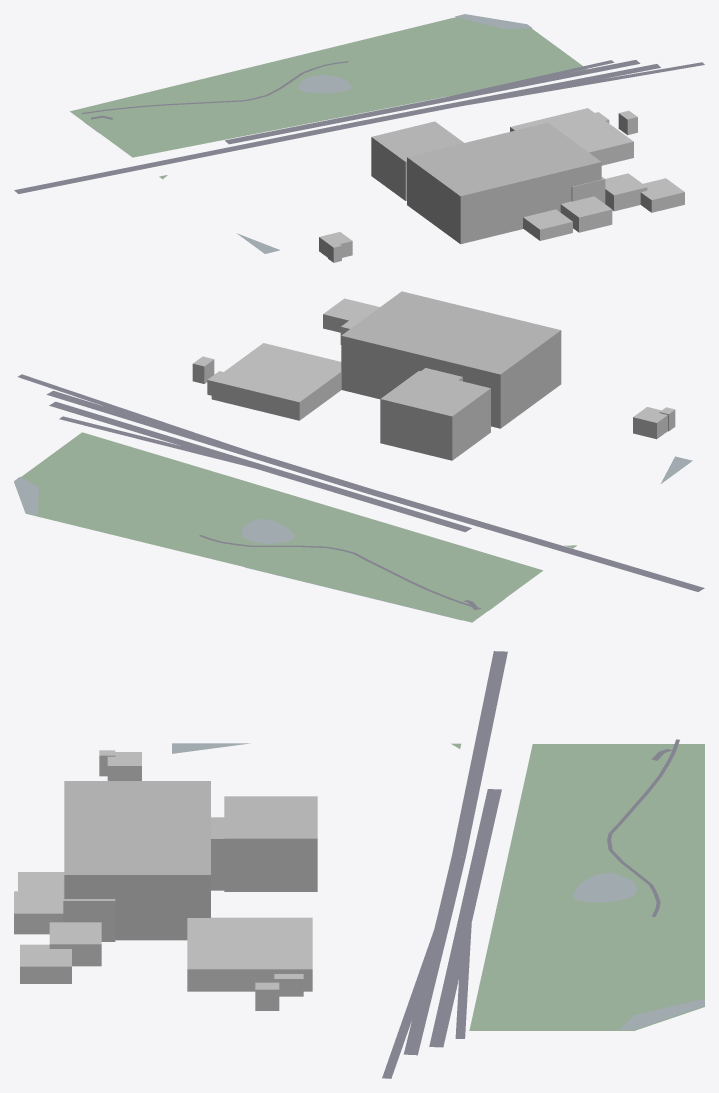
File: 132_81_mid.glb
The picture shows the model from 3 angles, top to bottom: view 1: azimuth 30°, elevation 25°; view 2: azimuth 150°, elevation 25°; view 3: azimuth 270°, elevation 25°; orthographic projection. The views are drawn at different scales.
Bounding box in the file's own units: 749 × 54.71 × 508.
